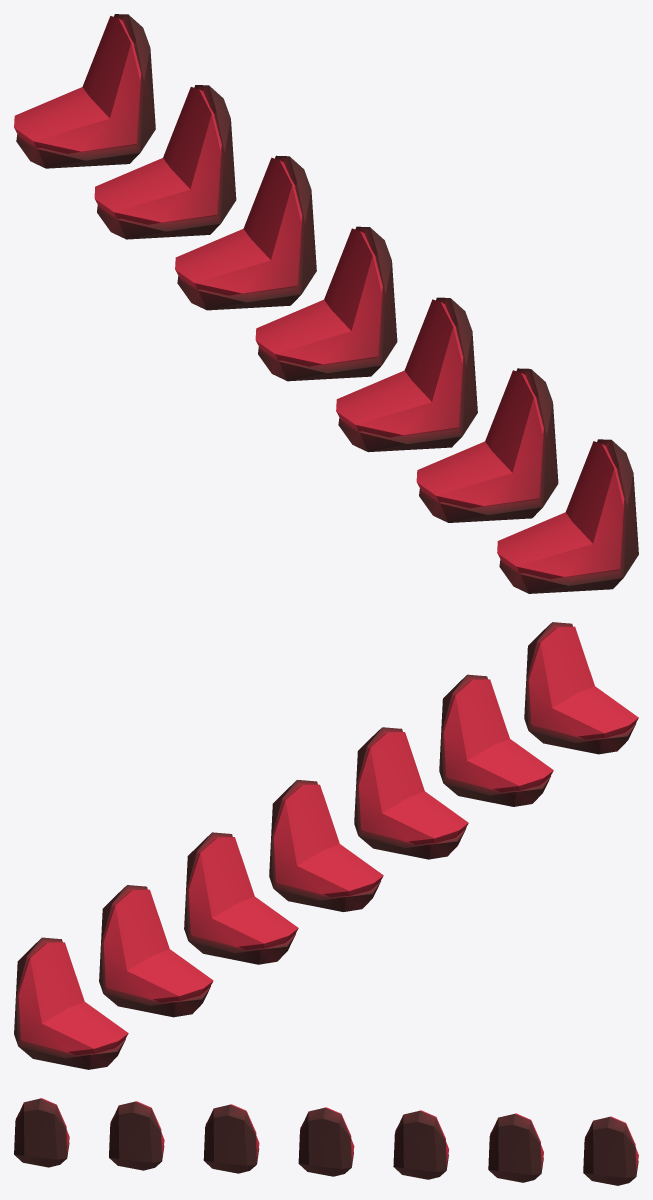
The model's file is TheatreChairs.fbx.
3 renders of one model, top to bottom at view 1: azimuth 30°, elevation 25°; view 2: azimuth 150°, elevation 25°; view 3: azimuth 270°, elevation 25°, orthographic. The views are drawn at different scales.
Parts seen in each view (by area): view 1: Cube.001; view 2: Cube.001; view 3: Cube.001.
Part boxes in pixels (x1=…): Cube.001: x1=14, y1=14, x2=638, y2=593; Cube.001: x1=14, y1=622, x2=638, y2=1069; Cube.001: x1=14, y1=1098, x2=638, y2=1185.
Bounding box in the file's own units: 71.61 × 48.36 × 387.
